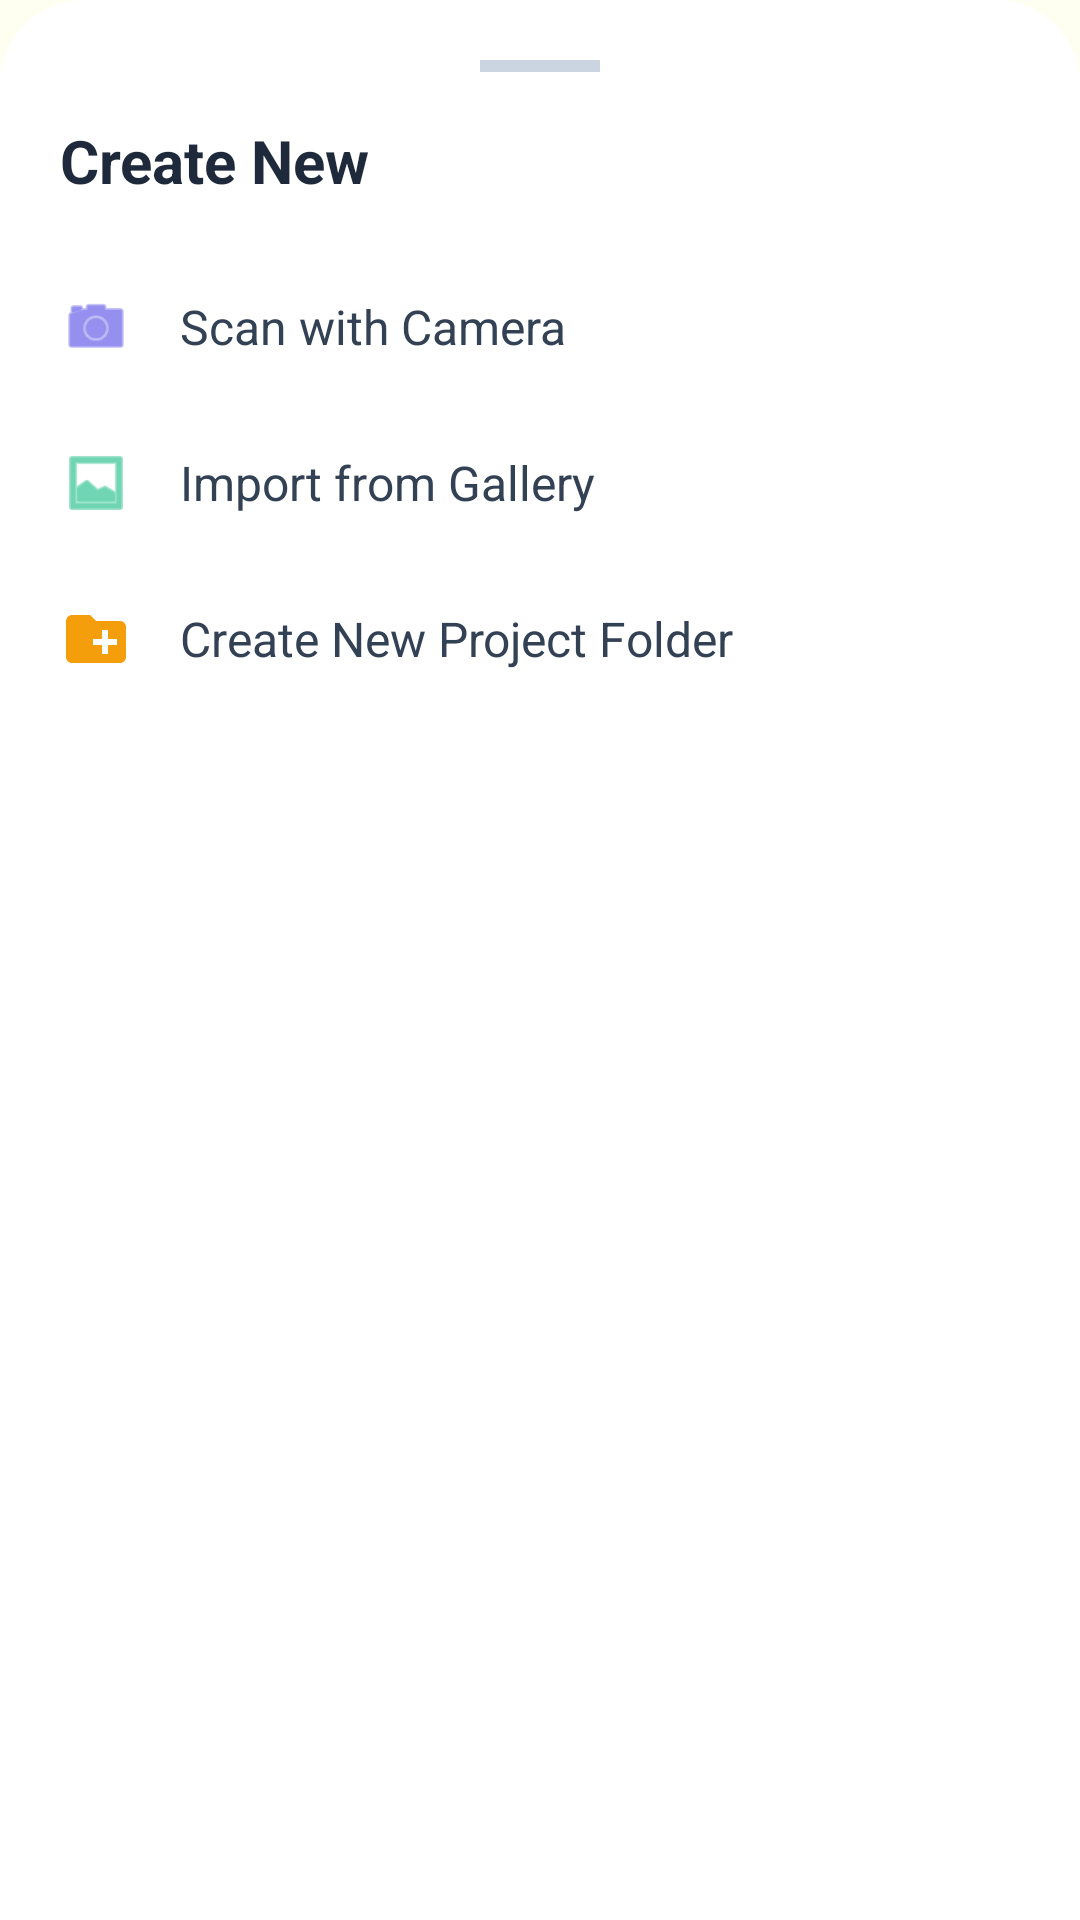

Screen size 1080px x 1920px. Icon name, then its center in pixels as [x,y]:
add folder: [96,639]
